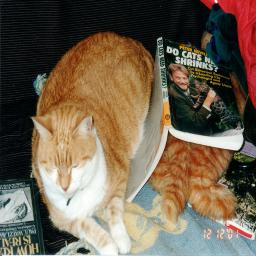catnose: (59, 179, 71, 194)
